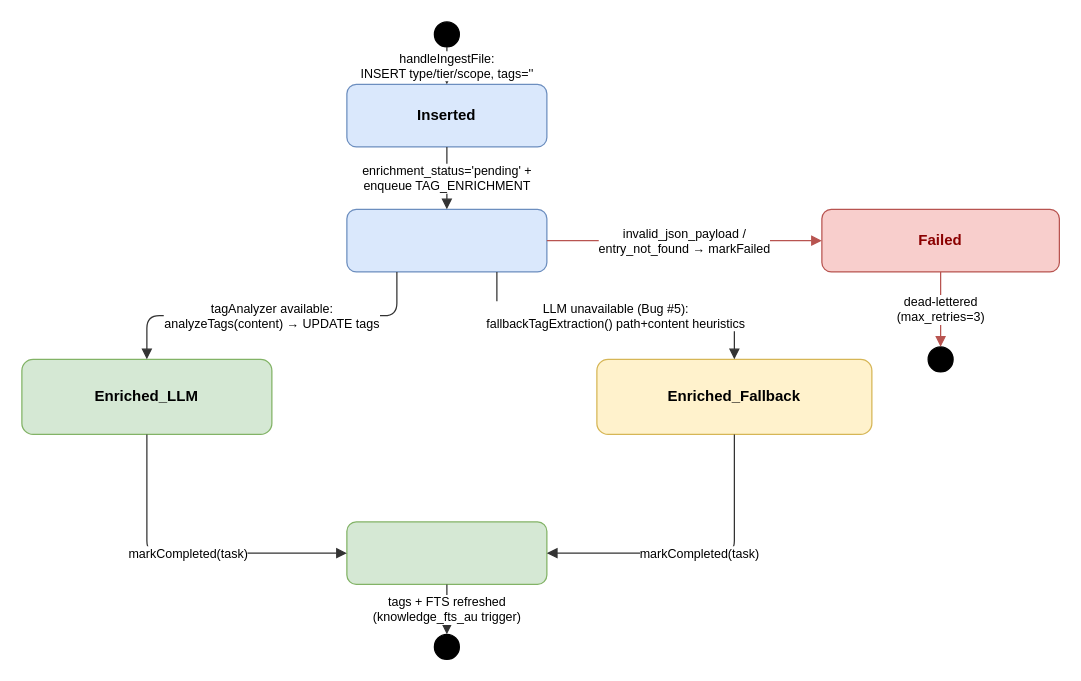
This 1081x681 diagram has some shape labels left out. Here are the shapes that lost their labels. From the top down, the centre of each, then its label:
At [446,240]: "Pending".
At [446,552]: "Completed".
